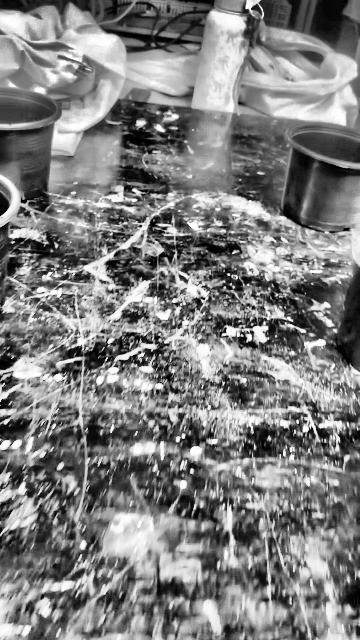pot: (281, 123, 359, 231), (0, 87, 61, 205), (337, 218, 359, 371), (0, 175, 19, 297)
